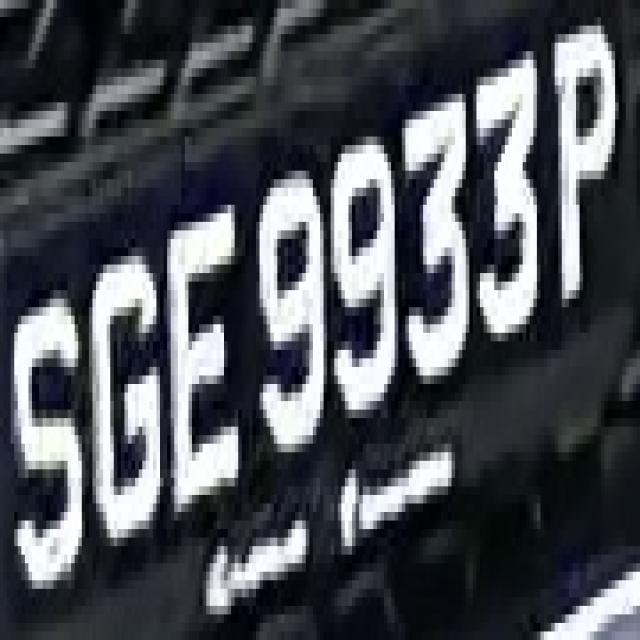3: (395, 77, 469, 392), (473, 60, 544, 367)
9: (252, 162, 338, 461), (327, 119, 405, 444)
E: (167, 188, 249, 512)
G: (85, 222, 167, 555)
P: (548, 8, 626, 316)
S: (7, 256, 85, 606)
